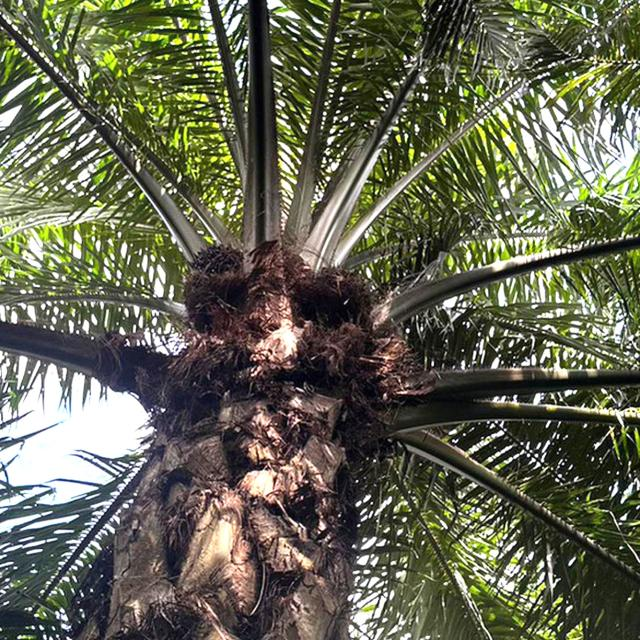unripe: (184, 242, 243, 284)
